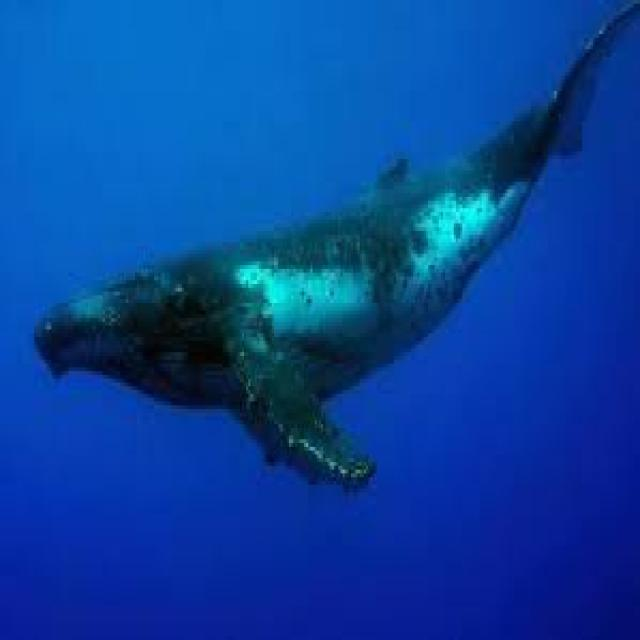whale: (34, 0, 638, 485)
